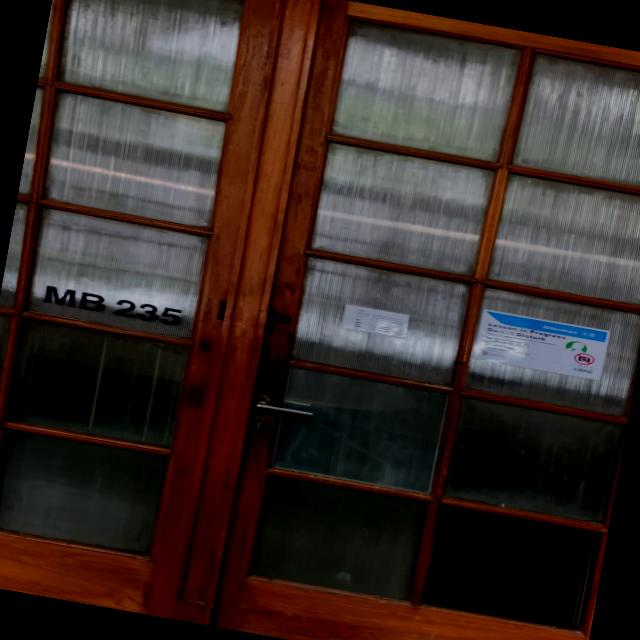room235Window: (36, 276, 192, 330)
